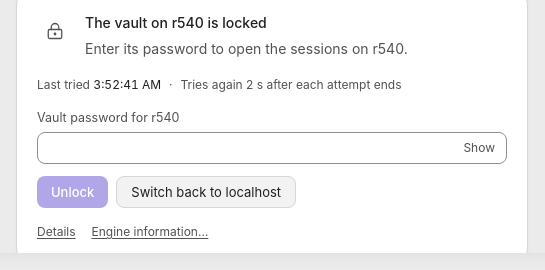
Test: TerminalScreen while the run target refuses its session list › says in the panel when the Vault password is wrong
The width and height of the screenshot is (545, 270).
Type "wrong" into the password field named "Vault password for r540" at (272, 148), box [37,132,507,164]
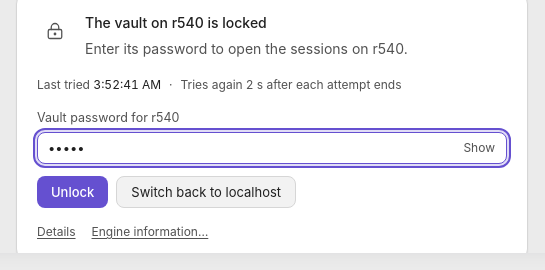
Click the button "Unlock" at (73, 192), box [37,176,108,208]
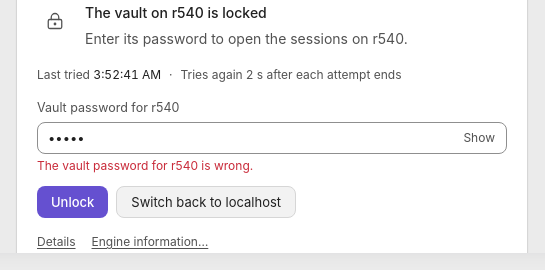
Expected: the text "The vault password for r540 is wrong." is shown, [37,158,253,173]
